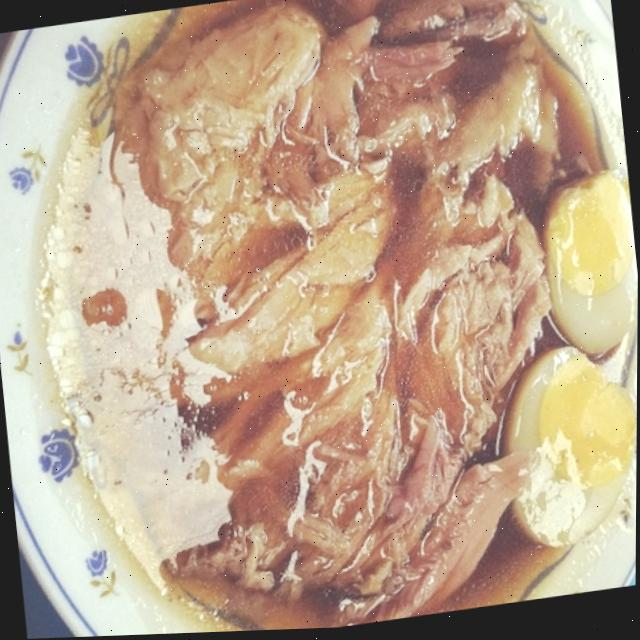猪肉菜式: (88, 0, 640, 637)
